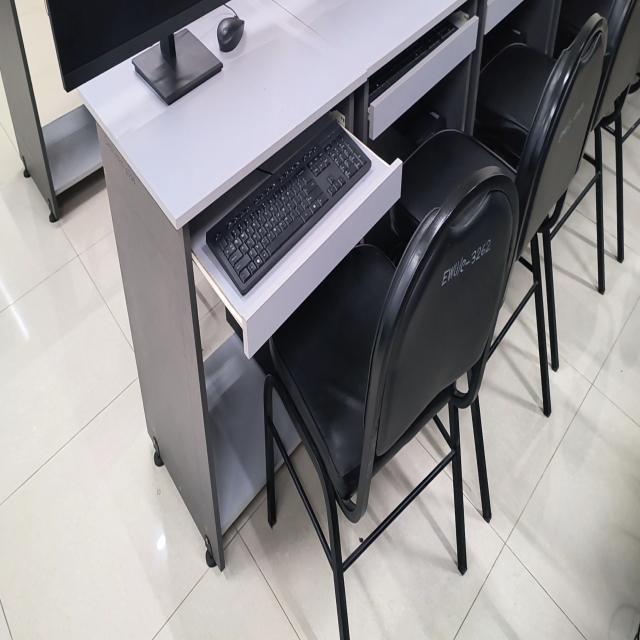Chair: (264, 173, 518, 639), (396, 18, 605, 258), (543, 0, 640, 369), (476, 16, 591, 163)
Cpu: (46, 0, 229, 104), (397, 99, 449, 145)
Keyboard: (206, 125, 369, 295)
Mouse: (217, 15, 244, 52)
